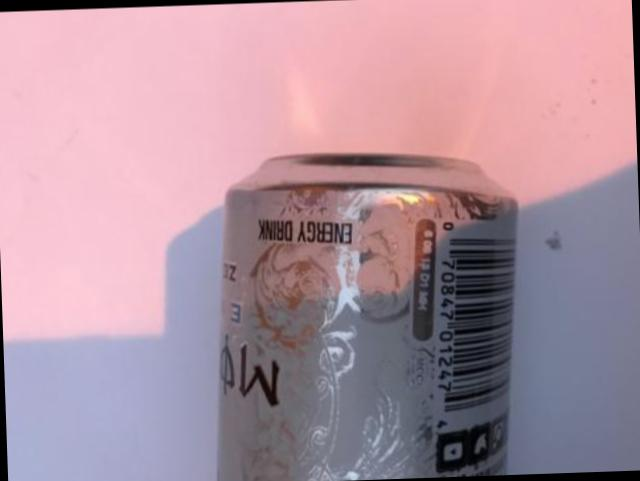metal: (217, 152, 514, 481)
